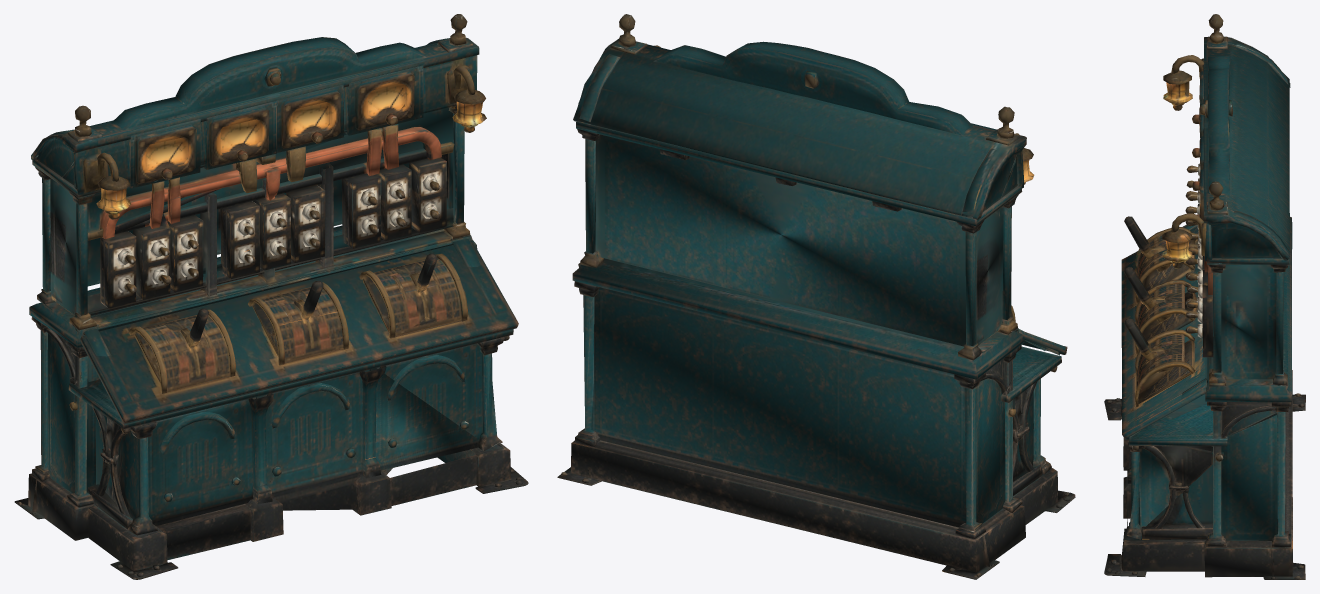
The model's file is Switchboard.glb.
3 renders of one model, left to right at view 1: azimuth 30°, elevation 25°; view 2: azimuth 150°, elevation 25°; view 3: azimuth 270°, elevation 25°, orthographic. The views are drawn at different scales.
Bounding box in the file's own units: 1 × 1 × 0.4627.
1 material, 1 textured.
